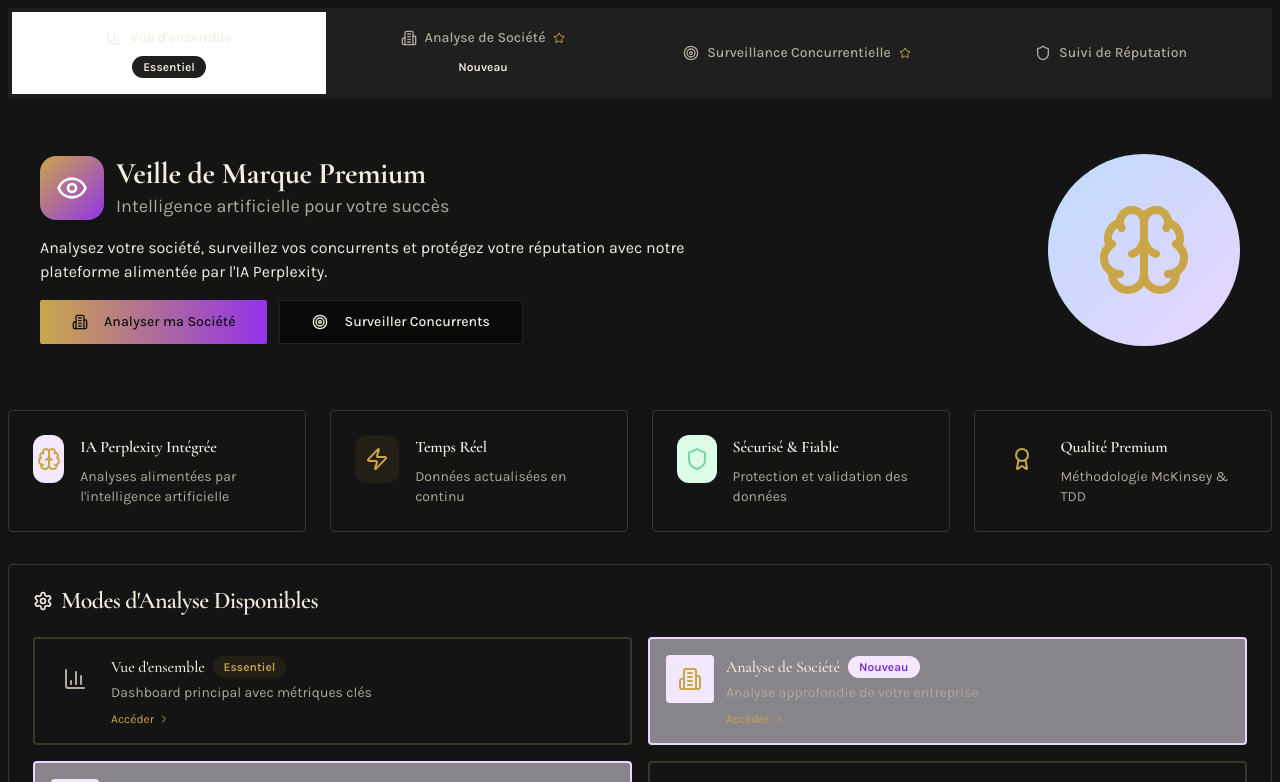
Test: 🚀 ENHANCED BRAND MONITORING - TESTS TDD PREMIUM › 🧭 Navigation entre Onglets › 🏢 DOIT naviguer vers l'Analyse de Société
Click the tab with test id "tab-company-analysis".
click(483, 53)  # box [326,12,640,94]
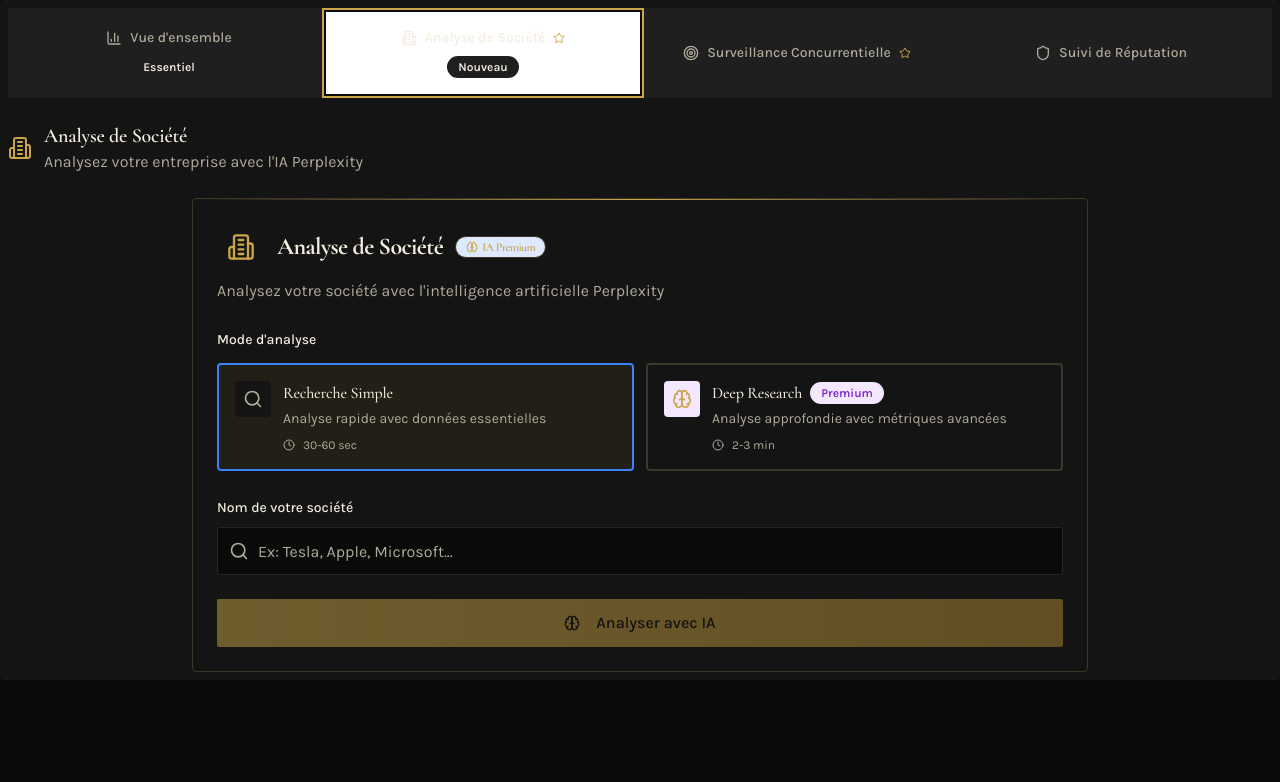
Check: the element with test id "company-analysis-widget" is shown, box [192,198,1088,672]
